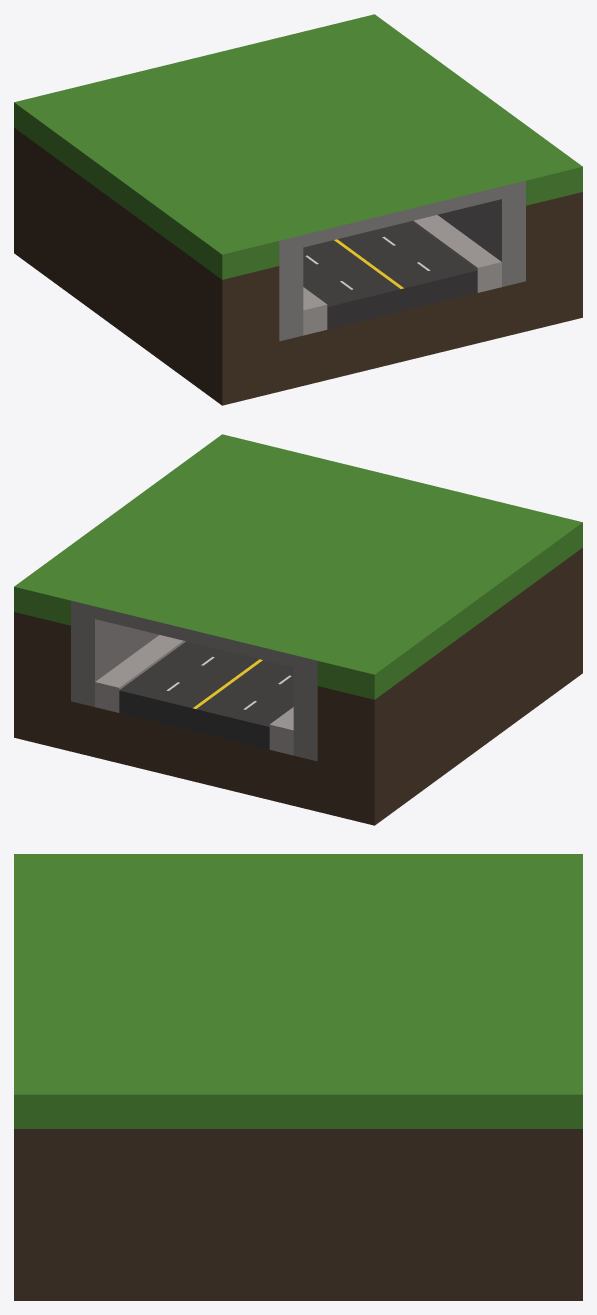
Rendered from tiles_tile-mainroad-tunnel.fbx.
3 views of the same model, one above another, from view 1: azimuth 30°, elevation 25°; view 2: azimuth 150°, elevation 25°; view 3: azimuth 270°, elevation 25° (orthographic). The views are drawn at different scales.
Parts seen in each view (by area): view 1: tiles_tile_mainroad_tunnel; view 2: tiles_tile_mainroad_tunnel; view 3: tiles_tile_mainroad_tunnel.
Boxes of the visible parts, left/top/right/bottom form: tiles_tile_mainroad_tunnel: left=14, top=14, right=582, bottom=405; tiles_tile_mainroad_tunnel: left=14, top=434, right=582, bottom=825; tiles_tile_mainroad_tunnel: left=14, top=854, right=582, bottom=1300.
Bounding box in the file's own units: 200 × 80 × 200.
